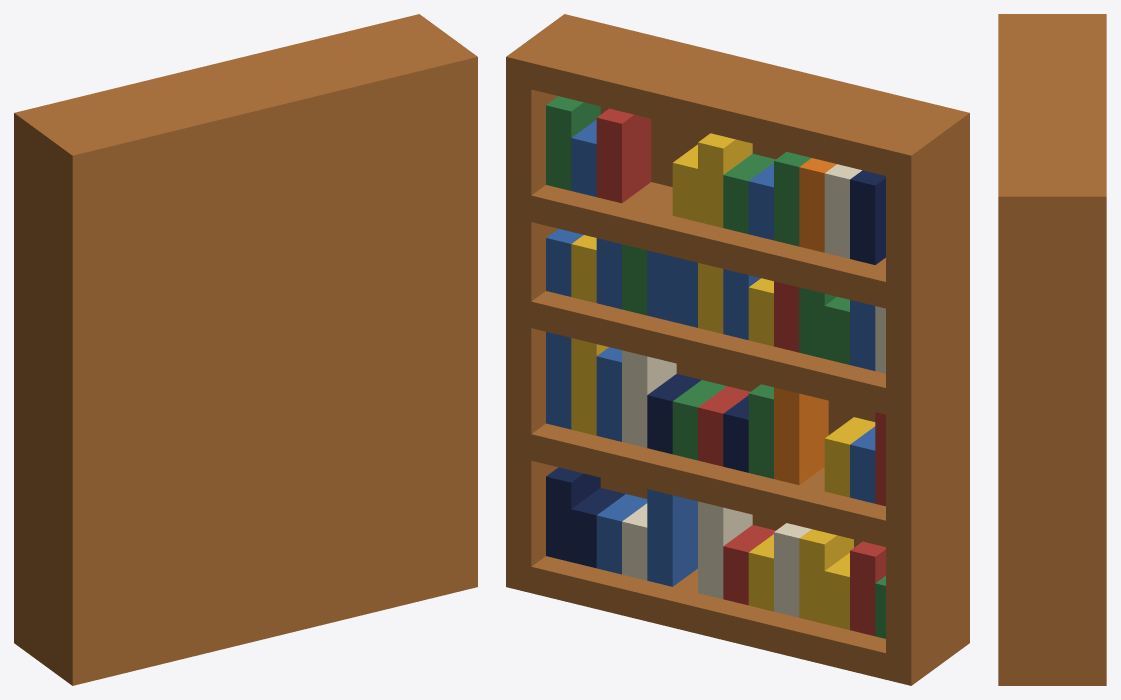
The model's file is bookshelf.glb.
The picture shows the model from 3 angles, left to right: view 1: azimuth 30°, elevation 25°; view 2: azimuth 150°, elevation 25°; view 3: azimuth 270°, elevation 25°; orthographic projection. The views are drawn at different scales.
Parts seen in each view (by area): view 1: shelf; view 2: shelf; view 3: shelf.
Boxes of the visible parts, x1,y1,x2,y2 form: shelf: (14, 14, 477, 685); shelf: (506, 14, 969, 685); shelf: (998, 14, 1106, 685).
Size of the model in its own units: 1.6 by 2 by 0.4.
